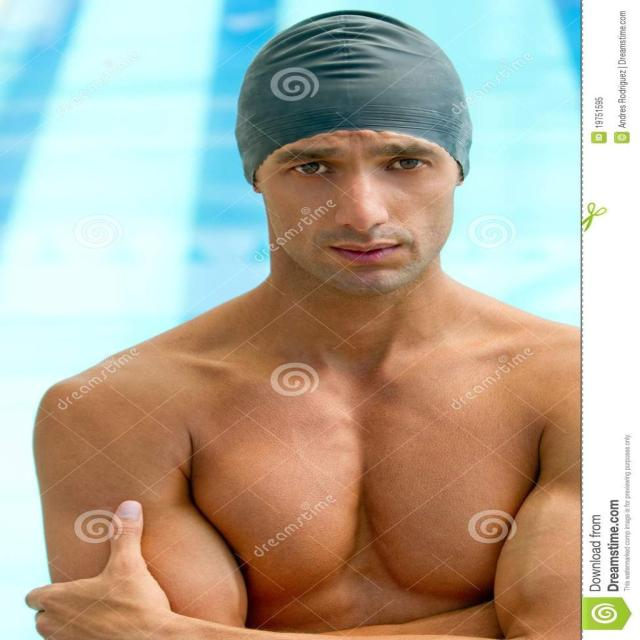Face: (258, 127, 475, 316)
